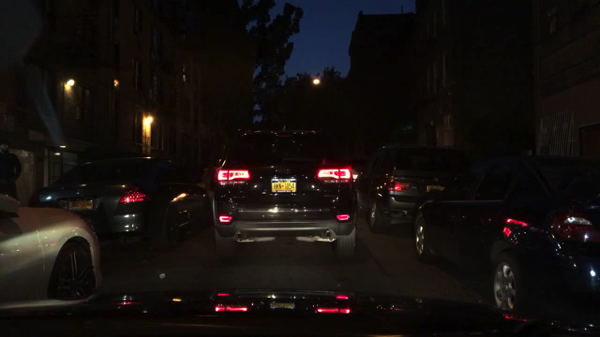car: (412, 153, 599, 317), (207, 125, 362, 263), (29, 155, 212, 253), (0, 192, 104, 310), (355, 144, 484, 235), (347, 162, 364, 181)
